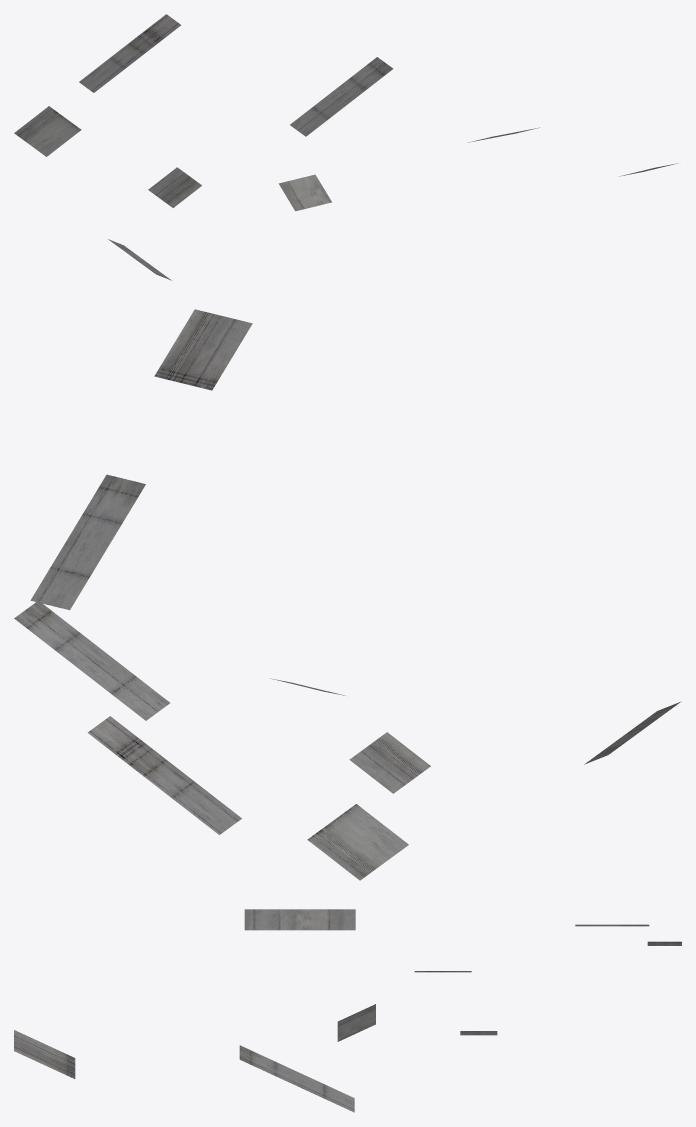
Rendered from SM_Chateaux_06_13_col.fbx.
3 renders of one model, top to bottom at view 1: azimuth 30°, elevation 25°; view 2: azimuth 150°, elevation 25°; view 3: azimuth 270°, elevation 25°, orthographic. The views are drawn at different scales.
Parts seen in each view (by area): view 1: SM_Chateaux_06_13_col; view 2: SM_Chateaux_06_13_col; view 3: SM_Chateaux_06_13_col.
Boxes of the visible parts, <box> form: SM_Chateaux_06_13_col: <box>14,14,677,280</box>; SM_Chateaux_06_13_col: <box>14,309,681,880</box>; SM_Chateaux_06_13_col: <box>14,909,681,1112</box>.
Size of the model in its own units: 3569 by 749 by 4271.
